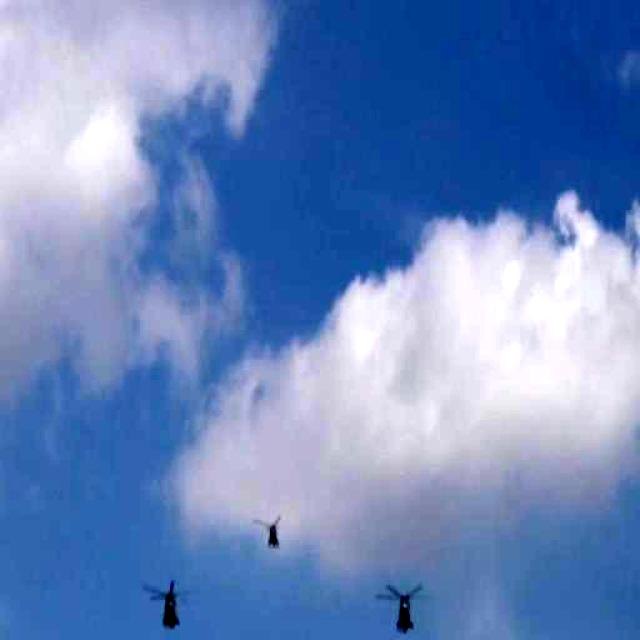drone: (379, 579, 426, 640), (152, 579, 194, 638), (262, 516, 290, 560)
